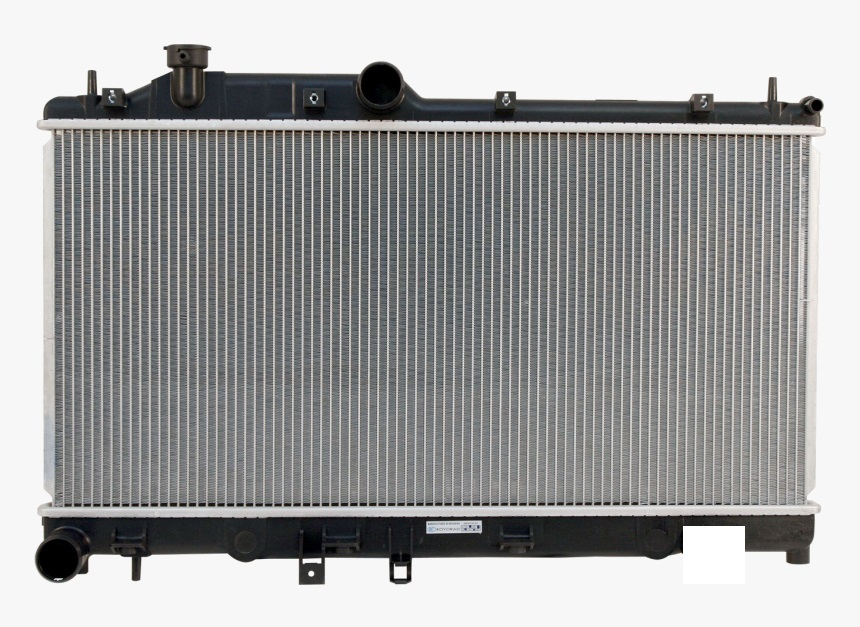c1: (86, 67, 128, 114)
c10: (230, 526, 260, 556)
c11: (297, 523, 363, 585)
c12: (385, 522, 415, 585)
c13: (497, 522, 537, 557)
c2: (161, 42, 213, 110)
c3: (300, 84, 327, 112)
c4: (353, 60, 409, 112)
c5: (492, 90, 520, 113)
c6: (690, 91, 716, 116)
c7: (767, 74, 827, 123)
c8: (28, 526, 94, 586)
c9: (109, 524, 151, 582)
